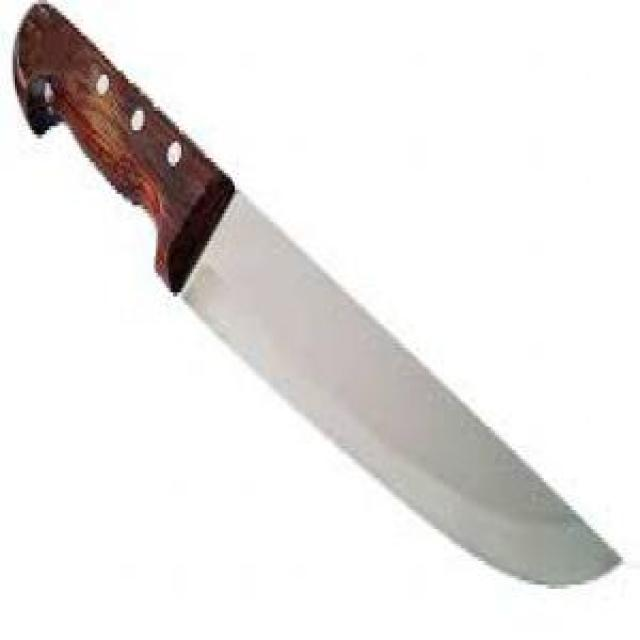knife: (15, 0, 624, 587)
